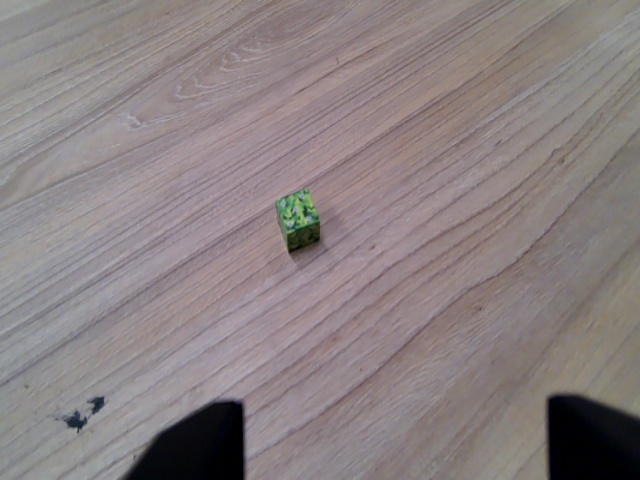grass: (275, 192, 324, 251)
